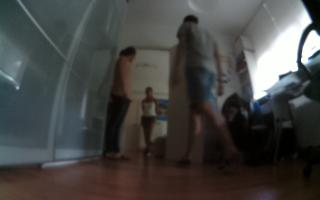person: (170, 6, 242, 176), (101, 38, 139, 162), (135, 82, 162, 161)
